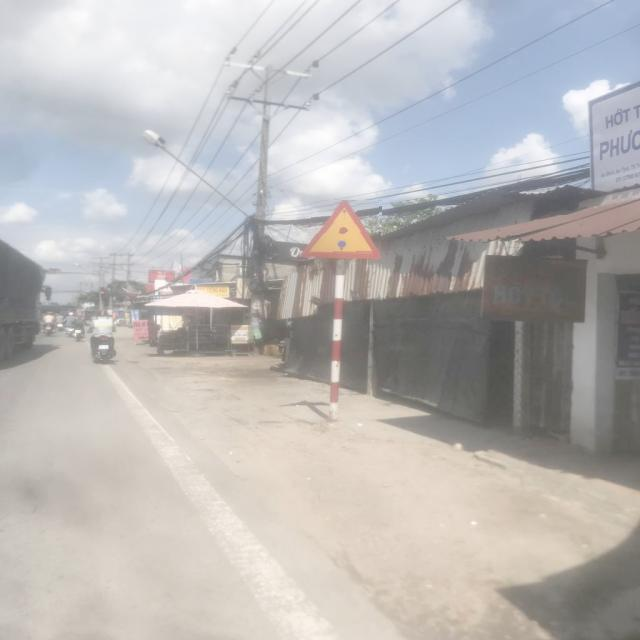giao_nhau_co_tin_hieu_den: (300, 200, 382, 258)
